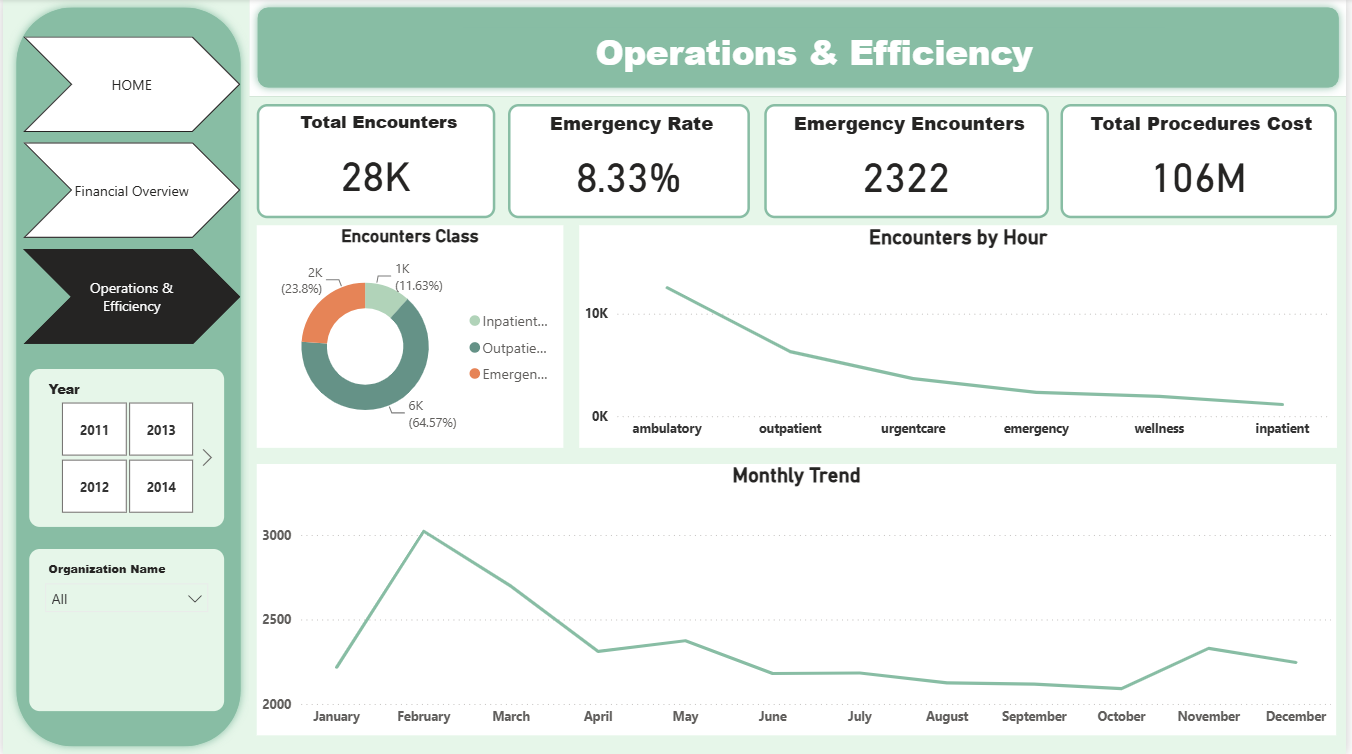

The dashboard page shown, as its layout file describes it:
{"tool":"powerbi","page":{"name":"Operations & Efficiency","canvas":[1280,720],"ordinal":2},"visuals":[{"type":"group","id":"g1","title":"Group 2","box":[4.9,0,229.5,719.8],"z":0,"group":"g3"},{"type":"shape","box":[4.9,0,229.5,719.8],"z":0,"group":"g1"},{"type":"shape","box":[234.4,0,1045.6,92.4],"z":0,"group":"g2"},{"type":"card","title":"Total Encounters","fields":{"Values":["encounters.Total Num Of Patient"]},"box":[242.2,100.2,227.6,108.9],"z":0},{"type":"textbox","title":"Operations & Efficiency","box":[432.8,27.2,678.1,45.3],"z":1000,"group":"g2"},{"type":"pageNavigator","box":[18.7,36,207.2,294.7],"z":1000,"group":"g1"},{"type":"card","title":"Emergency Rate","fields":{"Values":["encounters.Emergency Rate1"]},"box":[481.5,100.2,230.5,108.9],"z":1000},{"type":"slicer","fields":{"Values":["organizations.NAME"]},"box":[25.3,523.3,185.8,154.7],"z":1000,"group":"g3"},{"type":"card","title":"Emergency Encounters","fields":{"Values":["encounters.Emergency Encounters"]},"box":[724.6,100.2,271.4,108.9],"z":2000},{"type":"slicer","fields":{"Values":["Calender.Year"]},"box":[25.5,352.1,185.8,150.8],"z":2000,"group":"g1"},{"type":"card","title":"Total Procedures Cost","fields":{"Values":["Calender.Procedure-Cost"]},"box":[1006.7,100.2,263.6,108.9],"z":3000},{"type":"group","id":"g2","title":"Group 1","box":[234.4,0,1045.6,92.4],"z":4000},{"type":"group","id":"g3","title":"Group 3","box":[4.9,0,229.5,719.8],"z":5000},{"type":"donutChart","title":"Encounters Class","fields":{"Y":["encounters.Inpatient Encounters","encounters.Outpatients","Calender.Emergency"]},"box":[242.2,215.9,291.8,212],"z":6000},{"type":"lineChart","title":"Monthly Trend","fields":{"Y":["encounters.Total Encounters"],"Category":["Calender.Date.Variation.Date Hierarchy.Month"]},"box":[242.2,442.6,1028.1,258.7],"z":7000},{"type":"lineChart","title":"Encounters by Hour","fields":{"Y":["Sum(encounters.Hour display)"],"Category":["encounters.ENCOUNTERCLASS"]},"box":[548.6,215.9,721.7,212],"z":8000}]}

Visuals, with their boxes in screenshot pixels (x1, y1, x2, y2), scaled from the page's 1280x720 canvas onto the 1352x754 screenshot:
"Group 2" group: Rect(5, 0, 248, 753)
shape: Rect(5, 0, 248, 753)
shape: Rect(248, 0, 1351, 97)
"Total Encounters" card: Rect(256, 105, 496, 219)
"Operations & Efficiency" textbox: Rect(457, 28, 1173, 76)
pageNavigator: Rect(20, 38, 239, 346)
"Emergency Rate" card: Rect(509, 105, 752, 219)
slicer - organizations.NAME: Rect(27, 548, 223, 710)
"Emergency Encounters" card: Rect(765, 105, 1052, 219)
slicer - Calender.Year: Rect(27, 369, 223, 527)
"Total Procedures Cost" card: Rect(1063, 105, 1342, 219)
"Group 1" group: Rect(248, 0, 1351, 97)
"Group 3" group: Rect(5, 0, 248, 753)
"Encounters Class" donutChart: Rect(256, 226, 564, 448)
"Monthly Trend" lineChart: Rect(256, 464, 1342, 734)
"Encounters by Hour" lineChart: Rect(579, 226, 1342, 448)
